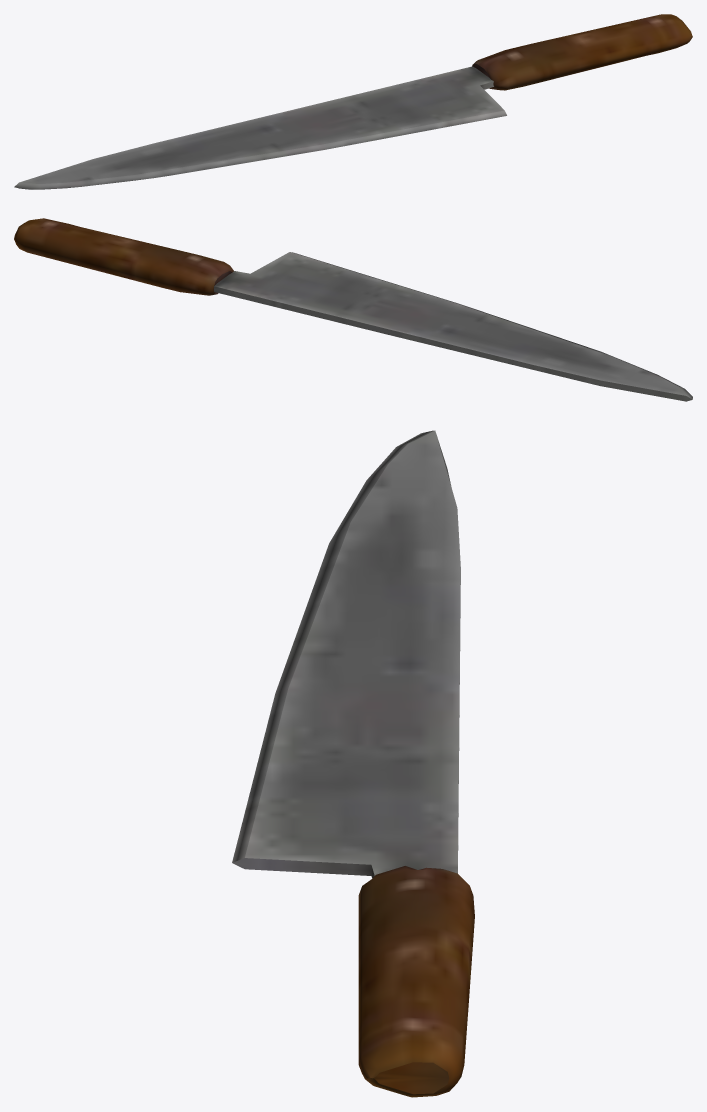
Rendered from medical_knife_a.glb.
The picture shows the model from 3 angles, top to bottom: view 1: azimuth 30°, elevation 25°; view 2: azimuth 150°, elevation 25°; view 3: azimuth 270°, elevation 25°; orthographic projection. The views are drawn at different scales.
Visible parts, largest first — view 1: Medical_Knife_a; view 2: Medical_Knife_a; view 3: Medical_Knife_a.
Part boxes in pixels (box(x1,y1,x2,y2)): Medical_Knife_a: box(14, 14, 692, 189); Medical_Knife_a: box(14, 218, 692, 401); Medical_Knife_a: box(232, 430, 474, 1097).
Size of the model in its own units: 0.4934 by 0.0219 by 0.0782.
1 material, 1 textured.
